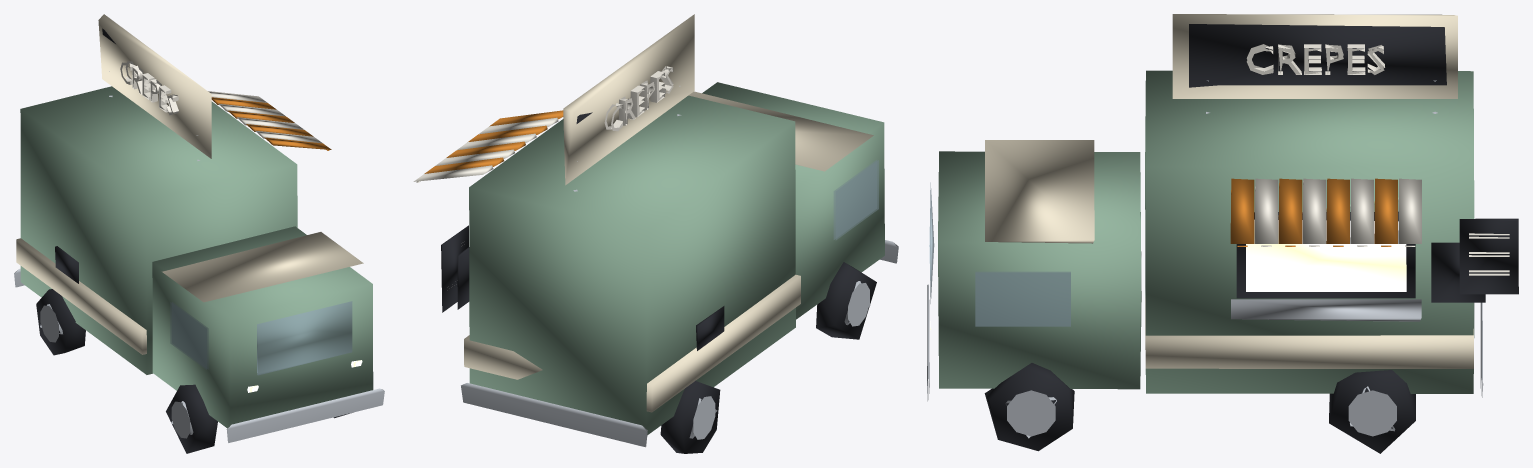
The model's file is lod_food_truck_crepe.glb.
The picture shows the model from 3 angles, left to right: view 1: azimuth 30°, elevation 25°; view 2: azimuth 150°, elevation 25°; view 3: azimuth 270°, elevation 25°; orthographic projection. The views are drawn at different scales.
Visible parts, largest first — view 1: food_truck_crepe; view 2: food_truck_crepe; view 3: food_truck_crepe.
Boxes of the visible parts, x1,y1,x2,y2 form: food_truck_crepe: [14, 14, 384, 453]; food_truck_crepe: [413, 14, 898, 453]; food_truck_crepe: [927, 14, 1518, 453].
Bounding box in the file's own units: 2.86 × 3.57 × 4.94.
